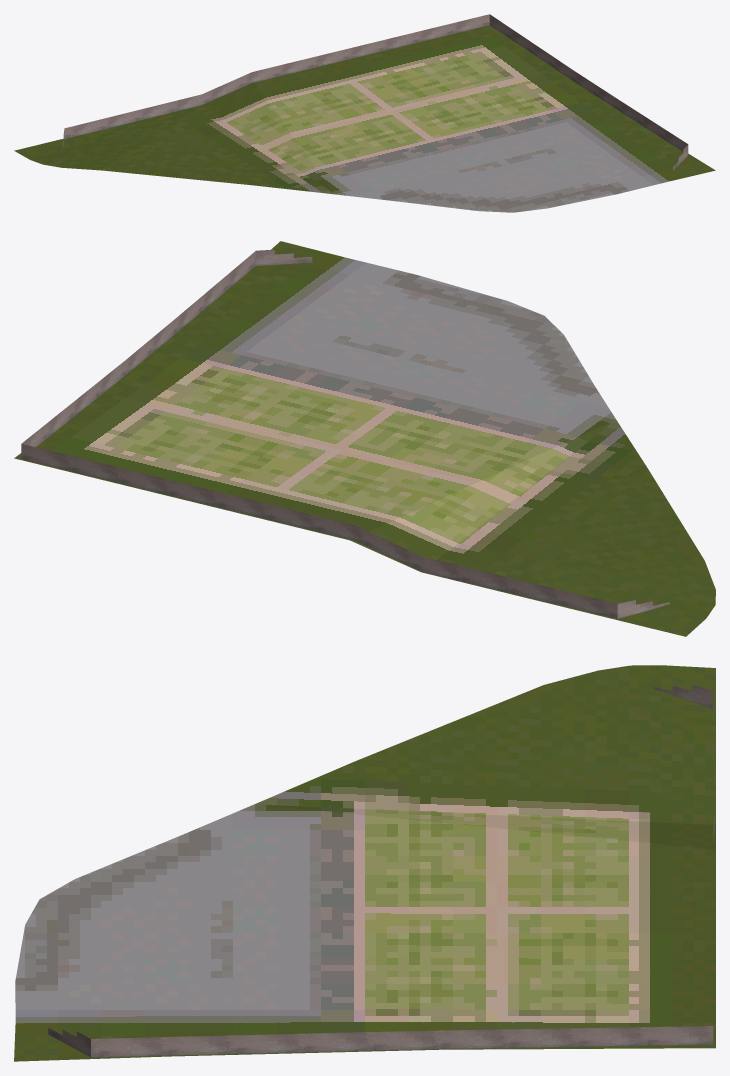
The model's file is lodgrounds04_sfs.obj.
The picture shows the model from 3 angles, top to bottom: view 1: azimuth 30°, elevation 25°; view 2: azimuth 150°, elevation 25°; view 3: azimuth 270°, elevation 25°; orthographic projection. The views are drawn at different scales.
Parts seen in each view (by area): view 1: LODgrounds04_SFS; view 2: LODgrounds04_SFS; view 3: LODgrounds04_SFS.
Boxes of the visible parts, x1,y1,x2,y2 form: LODgrounds04_SFS: (14, 14, 715, 212); LODgrounds04_SFS: (14, 241, 715, 636); LODgrounds04_SFS: (14, 665, 715, 1061).
Size of the model in its own units: 143 by 5.85 by 103.
Materials: 2 (2 with a texture image).
